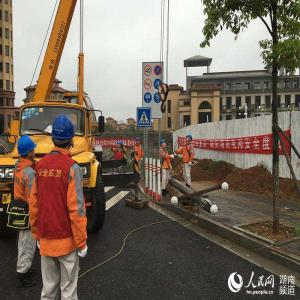blue: (53, 116, 76, 152), (17, 134, 37, 163), (161, 139, 167, 149), (187, 135, 193, 145), (118, 141, 124, 149), (137, 138, 141, 146)
